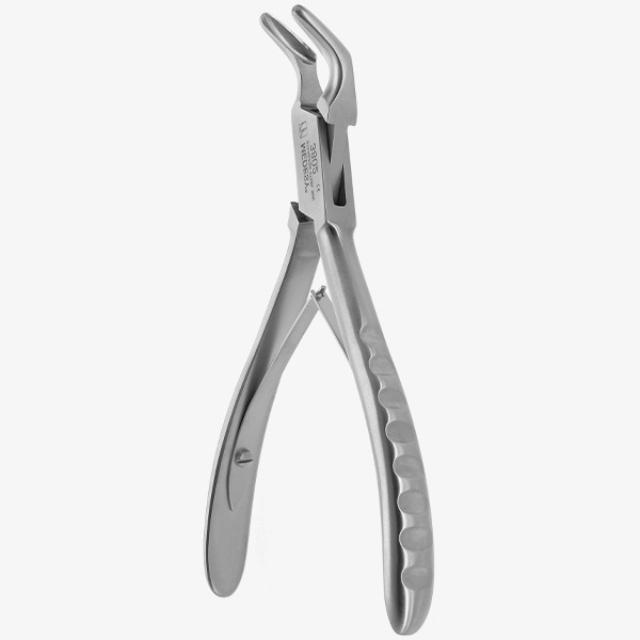gubia: (204, 6, 438, 639)
